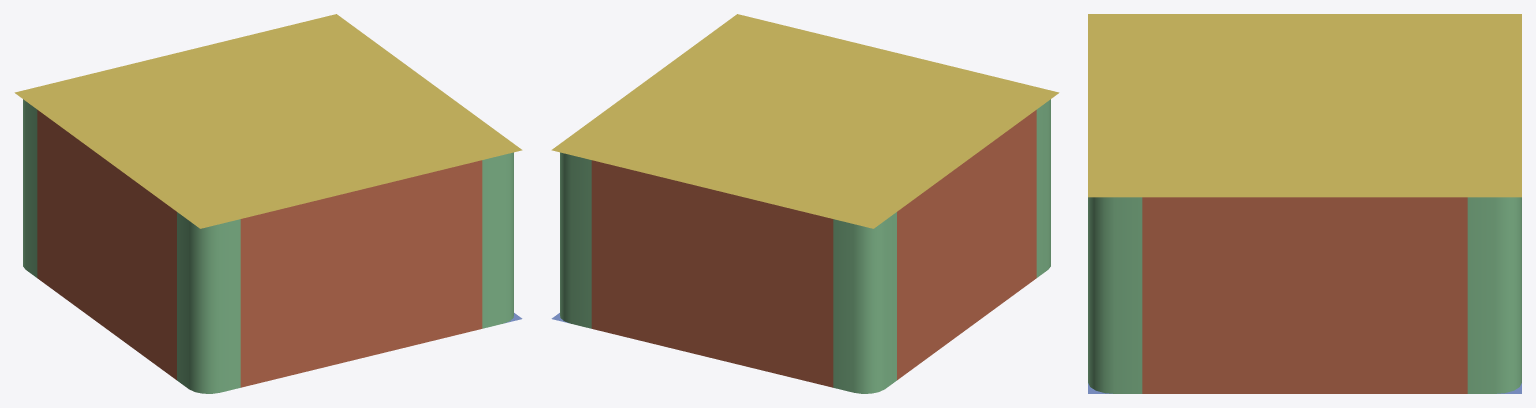
Rendered from Whiteboxing.fbx.
3 views of the same model, side by side, from view 1: azimuth 30°, elevation 25°; view 2: azimuth 150°, elevation 25°; view 3: azimuth 270°, elevation 25° (orthographic). The views are drawn at different scales.
Visible parts, largest first — view 1: Corner_In.009, Corner_In.001, Corner_In.006, Corner_In.014, Cube.096, Cube.047, Cube.046, Cube.003, Cube.001, Cube.097, Cube.095, Cube.094 (+112 smaller); view 2: Corner_In.010, Corner_In.002, Corner_In.005, Corner_In.013, Cube.090, Cube.041, Cube.040, Cube.010, Cube.007, Cube.091, Cube.089, Cube.088 (+112 smaller); view 3: Cube.079, Cube.078, Cube.077, Cube.076, Cube.075, Cube.074, Cube.073, Cube.068, Cube.031, Cube.026, Cube.020, Cube.013 (+84 smaller).
Part boxes in pixels (x1=…): Corner_In.009: x1=177, y1=254, x2=240, y2=309; Corner_In.001: x1=177, y1=338, x2=240, y2=393; Corner_In.006: x1=177, y1=296, x2=240, y2=351; Corner_In.014: x1=177, y1=212, x2=240, y2=267; Cube.096: x1=402, y1=170, x2=442, y2=221; Cube.047: x1=361, y1=264, x2=401, y2=315; Cube.046: x1=321, y1=274, x2=361, y2=325; Cube.003: x1=321, y1=316, x2=361, y2=367; Cube.001: x1=402, y1=296, x2=442, y2=348; Cube.097: x1=442, y1=160, x2=482, y2=211; Cube.095: x1=361, y1=180, x2=401, y2=231; Cube.094: x1=321, y1=189, x2=361, y2=241; Corner_In.010: x1=833, y1=254, x2=896, y2=309; Corner_In.002: x1=833, y1=338, x2=896, y2=393; Corner_In.005: x1=833, y1=296, x2=896, y2=351; Corner_In.013: x1=833, y1=212, x2=896, y2=267; Cube.090: x1=631, y1=170, x2=671, y2=221; Cube.041: x1=672, y1=264, x2=712, y2=315; Cube.040: x1=712, y1=274, x2=752, y2=325; Cube.010: x1=712, y1=316, x2=752, y2=367; Cube.007: x1=631, y1=296, x2=671, y2=348; Cube.091: x1=591, y1=160, x2=631, y2=211; Cube.089: x1=672, y1=180, x2=712, y2=231; Cube.088: x1=712, y1=189, x2=752, y2=241; Cube.079: x1=1142, y1=197, x2=1196, y2=246; Cube.078: x1=1196, y1=197, x2=1250, y2=246; Cube.077: x1=1250, y1=197, x2=1304, y2=246; Cube.076: x1=1305, y1=197, x2=1359, y2=246; Cube.075: x1=1359, y1=197, x2=1413, y2=246; Cube.074: x1=1413, y1=197, x2=1467, y2=246; Cube.073: x1=1413, y1=246, x2=1467, y2=295; Cube.068: x1=1142, y1=246, x2=1196, y2=295; Cube.031: x1=1142, y1=295, x2=1196, y2=344; Cube.026: x1=1413, y1=295, x2=1467, y2=344; Cube.020: x1=1250, y1=295, x2=1304, y2=344; Cube.013: x1=1305, y1=295, x2=1359, y2=344.
Bounding box in the file's own units: 1600 × 800 × 1600.
